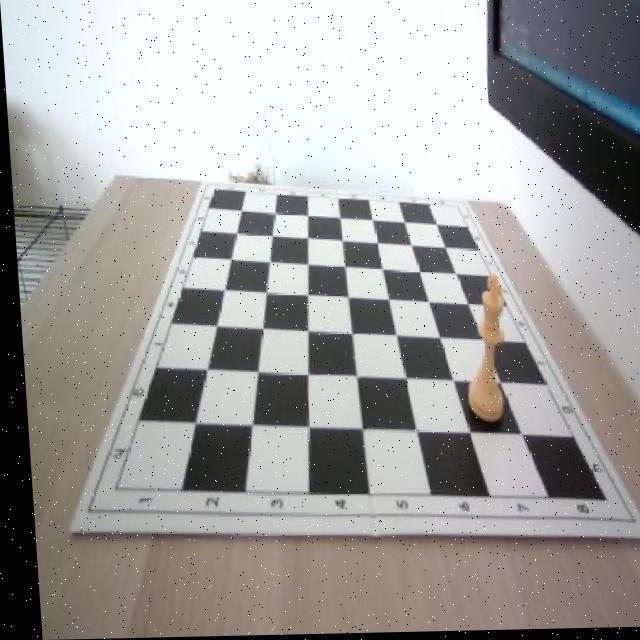white-bishop: (455, 276, 505, 426)
